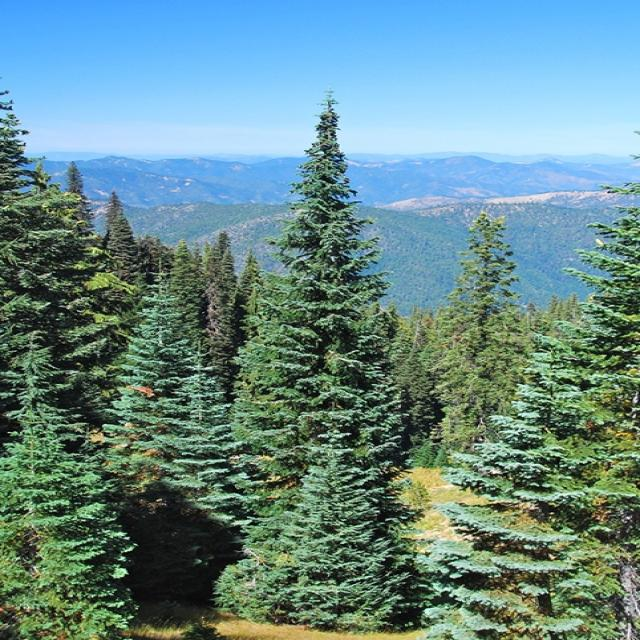Abies: (412, 114, 640, 640), (227, 86, 445, 463), (221, 392, 446, 638), (0, 362, 161, 640), (423, 208, 539, 421)
